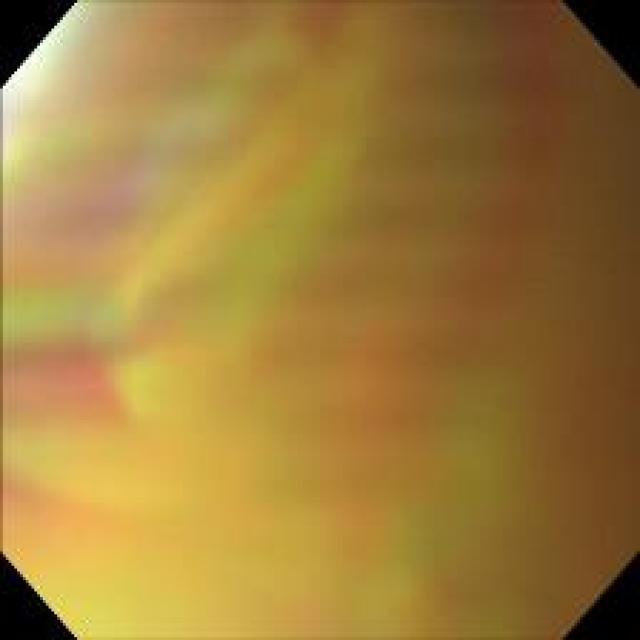color misalignment: (9, 1, 628, 630)
